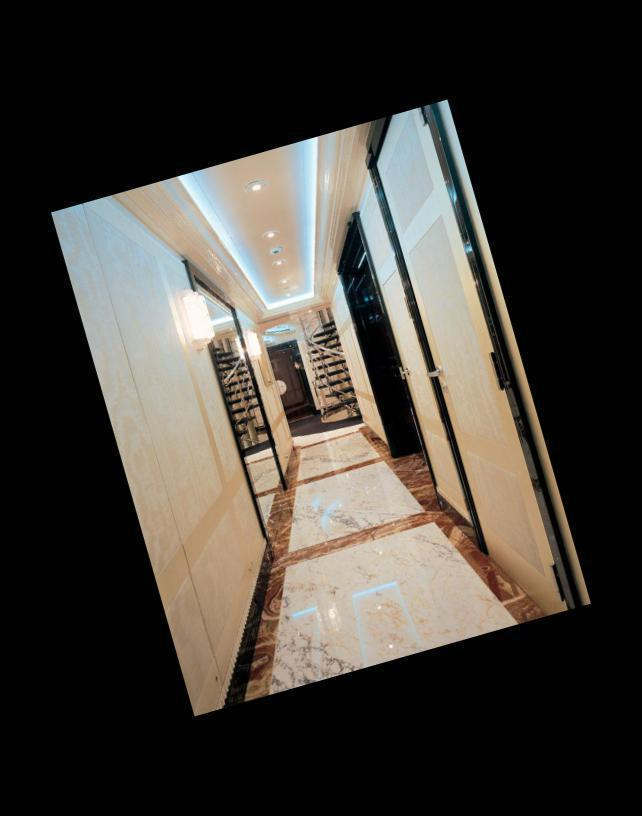Escaleras: (293, 309, 361, 427)
Puerta: (375, 139, 567, 610), (355, 203, 473, 522), (342, 277, 423, 449)
